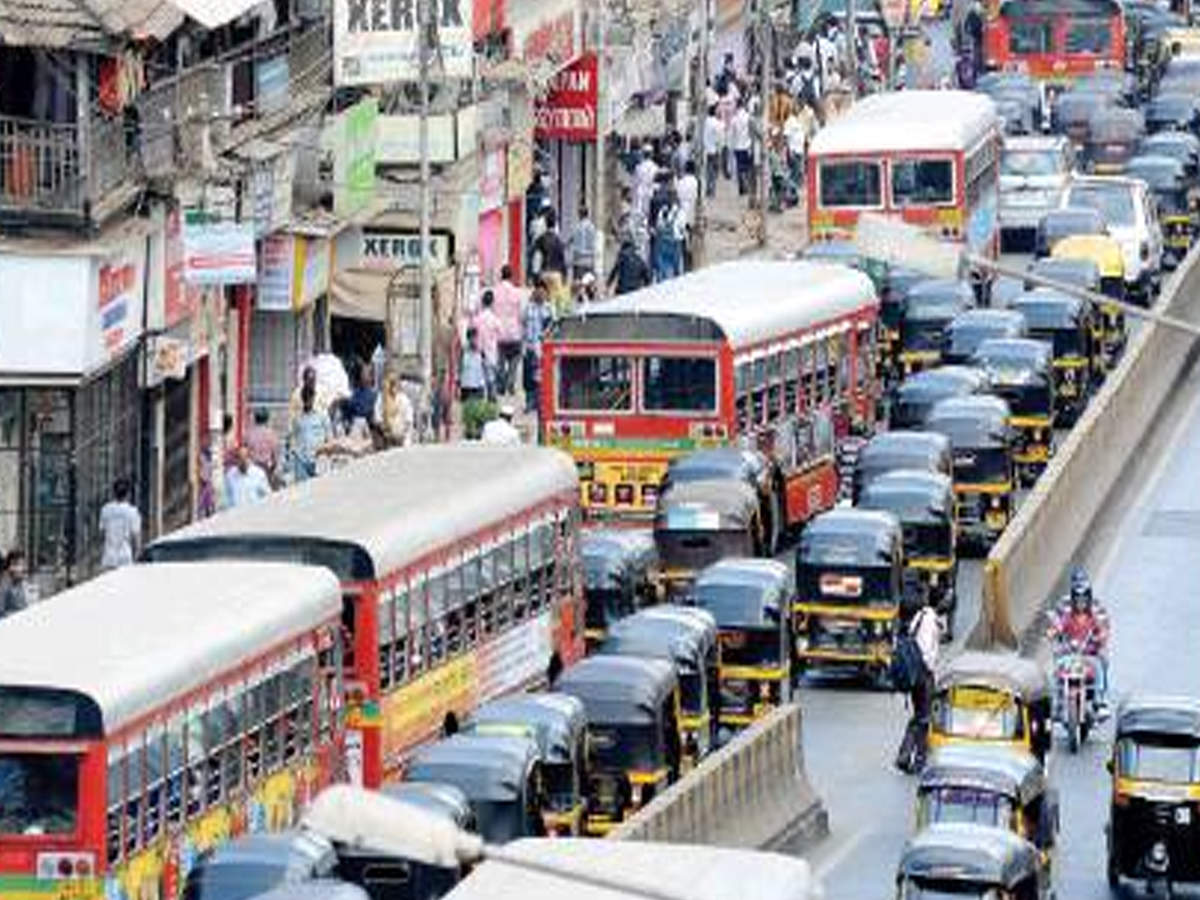bike: (1051, 557, 1117, 761)
bus: (2, 566, 335, 896), (341, 448, 577, 737), (569, 266, 870, 480), (813, 102, 986, 218), (993, 2, 1123, 64)
rickshaw: (800, 505, 905, 683), (1110, 694, 1200, 900), (690, 549, 808, 706), (578, 653, 687, 806), (908, 740, 1055, 841), (929, 624, 1040, 748), (917, 396, 1027, 505), (626, 598, 721, 721), (1015, 280, 1104, 405), (861, 472, 972, 570), (662, 465, 772, 555), (903, 271, 960, 361)
